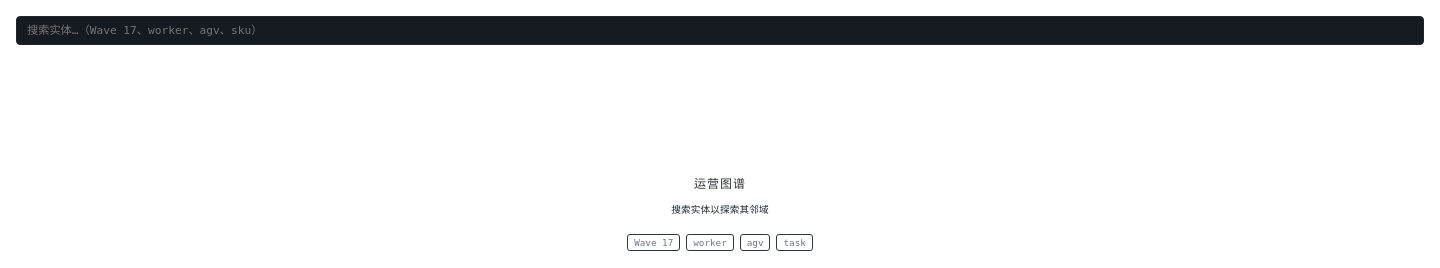
Test: Phase 17C — World Graph Explorer › shows search results after typing in search input
In the field with test id "graph-search-input": (720, 30) [16, 16, 1424, 45], type "Wave 17"
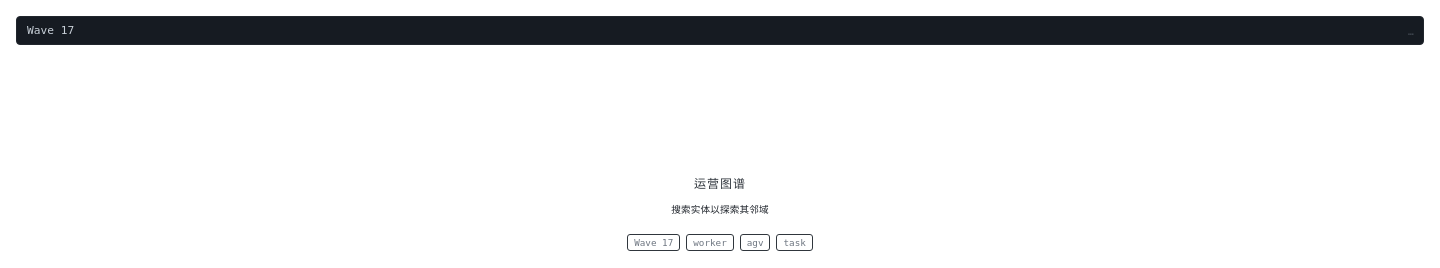
Focus the field with test id "graph-search-input": (720, 30) [16, 16, 1424, 45]
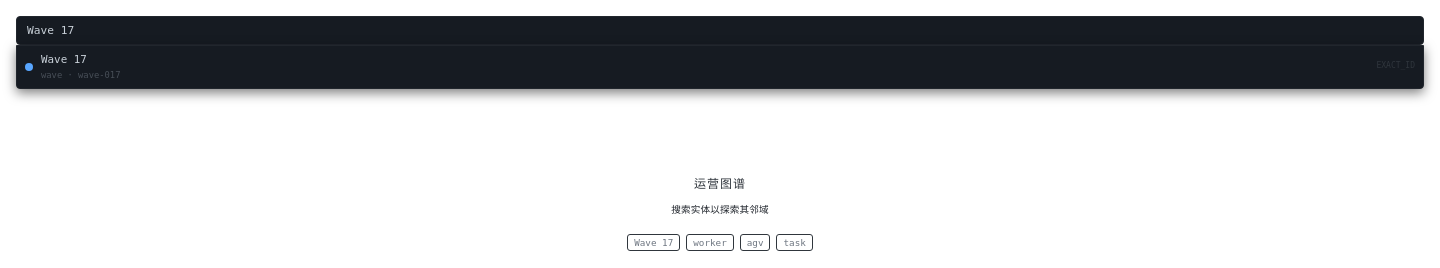
Expected: the element with test id "search-results-dropdown" is shown, [16, 45, 1424, 90]
Expected: the button with test id "search-result-item" is shown, [17, 46, 1423, 88]
